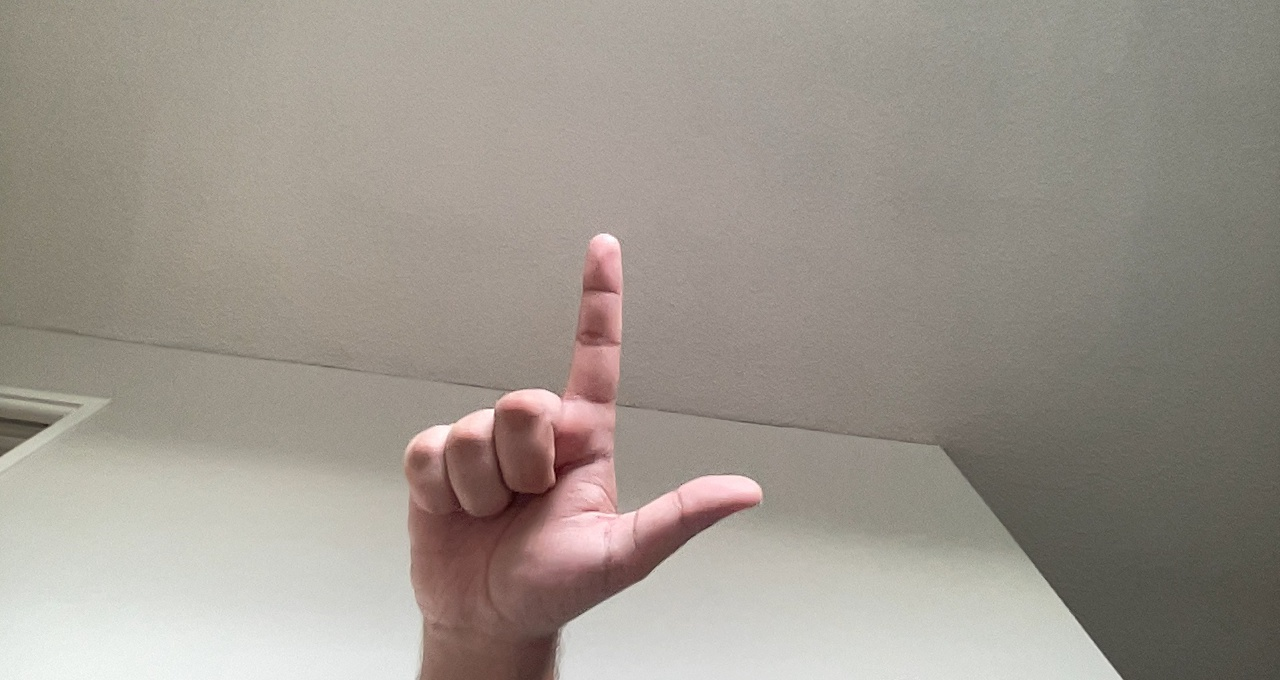L: (384, 227, 772, 654)
